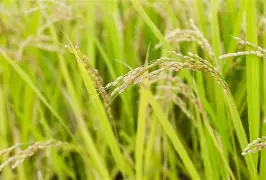crops: (0, 2, 262, 179), (103, 0, 173, 65), (1, 0, 74, 59)
